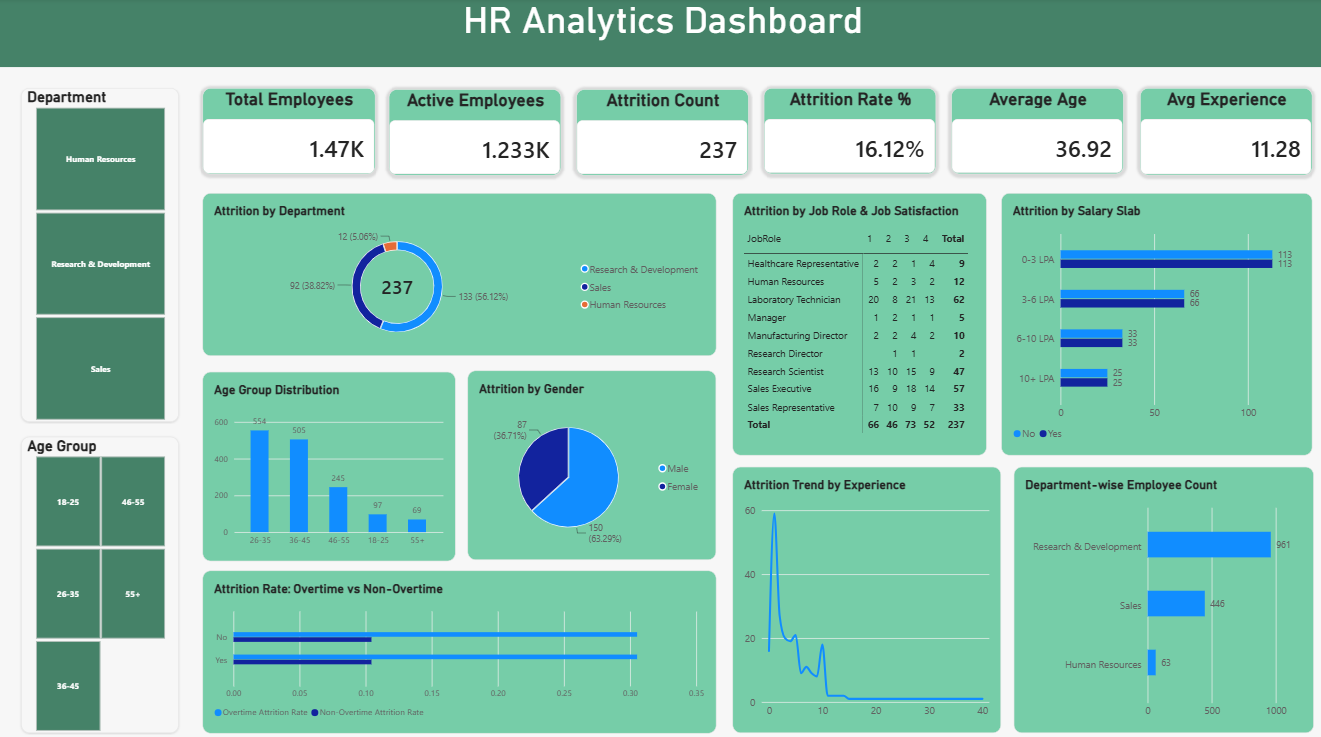

This screenshot's page, from the dashboard's own definition file:
{"tool":"powerbi","page":{"name":"Page 1","canvas":[1920,1080],"ordinal":0},"visuals":[{"type":"textbox","title":"HR Analytics Dashboard","box":[0,0,1920,100],"z":0},{"type":"pieChart","title":"Attrition by Gender","fields":{"Category":["WA_Fn-UseC_-HR-Employee-Attrition.Gender"],"Y":["WA_Fn-UseC_-HR-Employee-Attrition.Attrition Count"]},"box":[676.8,539.3,360,274],"z":1000},{"type":"columnChart","title":"Age Group Distribution","fields":{"Category":["WA_Fn-UseC_-HR-Employee-Attrition.Age Group"],"Y":["WA_Fn-UseC_-HR-Employee-Attrition.Total Employees"]},"box":[293.2,541.1,366,274],"z":2000},{"type":"donutChart","title":"Attrition by Department","fields":{"Category":["WA_Fn-UseC_-HR-Employee-Attrition.Department"],"Y":["WA_Fn-UseC_-HR-Employee-Attrition.Attrition Count"]},"box":[293.2,282.3,744,236],"z":3000},{"type":"slicer","fields":{"Values":["WA_Fn-UseC_-HR-Employee-Attrition.Department"]},"box":[30.8,130.3,228,483.2],"z":4000},{"type":"pivotTable","title":"Attrition by Job Role & Job Satisfaction","fields":{"Columns":["WA_Fn-UseC_-HR-Employee-Attrition.JobSatisfaction"],"Rows":["WA_Fn-UseC_-HR-Employee-Attrition.JobRole"],"Values":["WA_Fn-UseC_-HR-Employee-Attrition.Attrition Count"]},"box":[1060.5,282.3,368,380],"z":5000},{"type":"clusteredBarChart","title":"Attrition by Salary Slab","fields":{"Category":["WA_Fn-UseC_-HR-Employee-Attrition.Salary Slab"],"Series":["WA_Fn-UseC_-HR-Employee-Attrition.Attrition"],"Y":["WA_Fn-UseC_-HR-Employee-Attrition.Attrition Count"]},"box":[1449.5,282.3,450.6,380],"z":6000},{"type":"lineChart","title":"Attrition Trend by Experience","fields":{"Category":["WA_Fn-UseC_-HR-Employee-Attrition.YearsAtCompany"],"Y":["WA_Fn-UseC_-HR-Employee-Attrition.Attrition Count"]},"box":[1060.5,678.6,389.1,385.5],"z":7000},{"type":"cardVisual","title":"Total Employees","fields":{"Data":["WA_Fn-UseC_-HR-Employee-Attrition.Total Employees"]},"box":[293.2,130.3,250,125],"z":8000},{"type":"cardVisual","title":"Active Employees","fields":{"Data":["WA_Fn-UseC_-HR-Employee-Attrition.Active Employees"]},"box":[562.8,132.1,249.7,124.9],"z":9000},{"type":"cardVisual","title":"Attrition Count","fields":{"Data":["WA_Fn-UseC_-HR-Employee-Attrition.Attrition Count"]},"box":[834.3,132.1,249.7,124.9],"z":10000},{"type":"cardVisual","title":"Attrition Rate %","fields":{"Data":["WA_Fn-UseC_-HR-Employee-Attrition.Attrition Rate %"]},"box":[1105.7,130.3,249.7,124.9],"z":11000},{"type":"cardVisual","title":"Average Age","fields":{"Data":["Avg(WA_Fn-UseC_-HR-Employee-Attrition.Age)"]},"box":[1377.2,130.3,249.7,124.9],"z":12000},{"type":"cardVisual","title":"Avg Experience","fields":{"Data":["WA_Fn-UseC_-HR-Employee-Attrition.Avg Experience"]},"box":[1650.4,130.3,249.7,126.7],"z":13000},{"type":"clusteredBarChart","title":"Department-wise Employee Count","fields":{"Category":["WA_Fn-UseC_-HR-Employee-Attrition.Department"],"Y":["WA_Fn-UseC_-HR-Employee-Attrition.Total Employees"]},"box":[1467.6,678.6,434.3,385.5],"z":14000},{"type":"clusteredBarChart","title":"Attrition Rate: Overtime vs Non-Overtime","fields":{"Category":["WA_Fn-UseC_-HR-Employee-Attrition.OverTime"],"Y":["WA_Fn-UseC_-HR-Employee-Attrition.Overtime Attrition Rate","WA_Fn-UseC_-HR-Employee-Attrition.Non-Overtime Attrition Rate"]},"box":[293.2,828.8,744,236],"z":15000},{"type":"slicer","fields":{"Values":["WA_Fn-UseC_-HR-Employee-Attrition.Age Group"]},"box":[30.8,635.2,228,428.9],"z":16000}]}

Visuals, with their boxes in screenshot pixels (x1, y1, x2, y2), scaled from the page's 1920x1080 canvas onto the 1321x737 screenshot:
"HR Analytics Dashboard" textbox: <bbox>0, 0, 1320, 68</bbox>
"Attrition by Gender" pieChart: <bbox>466, 368, 713, 555</bbox>
"Age Group Distribution" columnChart: <bbox>202, 369, 454, 556</bbox>
"Attrition by Department" donutChart: <bbox>202, 193, 714, 354</bbox>
slicer - WA_Fn-UseC_-HR-Employee-Attrition.Department: <bbox>21, 89, 178, 419</bbox>
"Attrition by Job Role & Job Satisfaction" pivotTable: <bbox>730, 193, 983, 452</bbox>
"Attrition by Salary Slab" clusteredBarChart: <bbox>997, 193, 1307, 452</bbox>
"Attrition Trend by Experience" lineChart: <bbox>730, 463, 997, 726</bbox>
"Total Employees" cardVisual: <bbox>202, 89, 374, 174</bbox>
"Active Employees" cardVisual: <bbox>387, 90, 559, 175</bbox>
"Attrition Count" cardVisual: <bbox>574, 90, 746, 175</bbox>
"Attrition Rate %" cardVisual: <bbox>761, 89, 933, 174</bbox>
"Average Age" cardVisual: <bbox>948, 89, 1119, 174</bbox>
"Avg Experience" cardVisual: <bbox>1136, 89, 1307, 175</bbox>
"Department-wise Employee Count" clusteredBarChart: <bbox>1010, 463, 1309, 726</bbox>
"Attrition Rate: Overtime vs Non-Overtime" clusteredBarChart: <bbox>202, 566, 714, 727</bbox>
slicer - WA_Fn-UseC_-HR-Employee-Attrition.Age Group: <bbox>21, 433, 178, 726</bbox>
